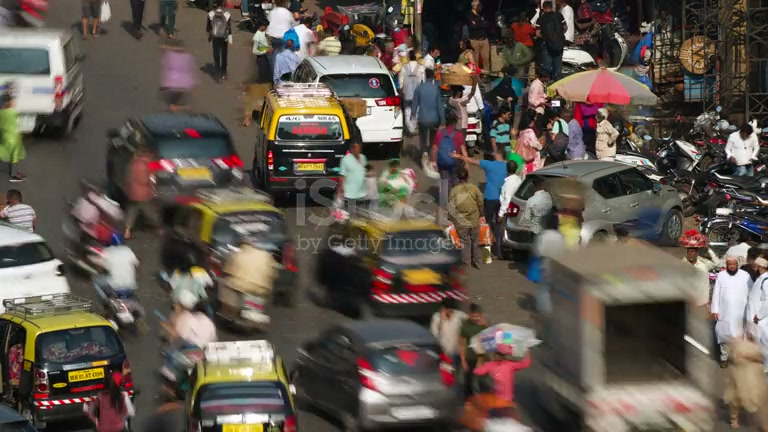car: (287, 319, 464, 430), (306, 205, 470, 322), (500, 158, 686, 261), (0, 293, 133, 430), (105, 111, 245, 217), (250, 83, 352, 204), (290, 54, 405, 157), (172, 339, 298, 430), (0, 221, 69, 309)
motorcycle: (209, 231, 281, 334), (91, 267, 142, 335)
pedestrian: (156, 286, 217, 394), (710, 251, 753, 367), (447, 166, 485, 269), (744, 253, 768, 378), (336, 140, 373, 217), (0, 91, 27, 180), (206, 3, 232, 80), (725, 121, 759, 176), (0, 189, 38, 233), (595, 108, 619, 161)
truck: (0, 26, 88, 140)
